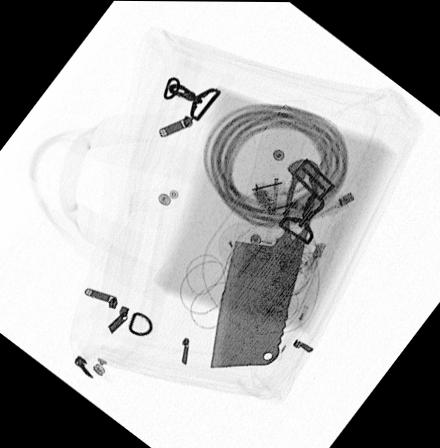Knife: (208, 155, 320, 368)
